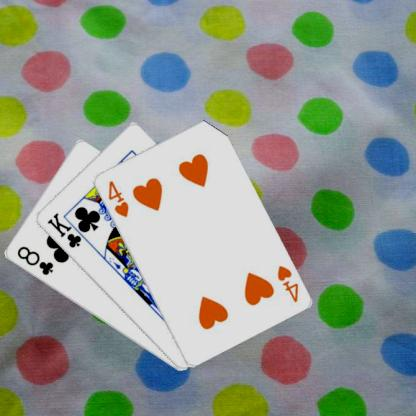4H: (274, 262, 299, 304), (104, 178, 130, 218)
8C: (14, 243, 54, 277)
KC: (44, 210, 91, 249)
